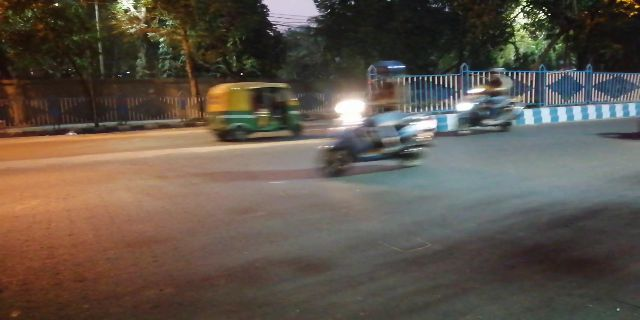Autorickshaw: (205, 79, 311, 143)
Motorbike: (324, 62, 430, 176), (460, 65, 521, 133)
